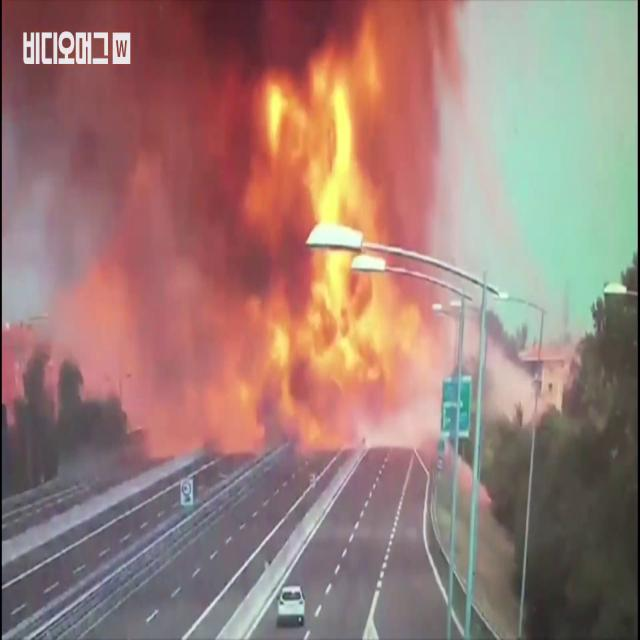explosion: (0, 0, 470, 524)
